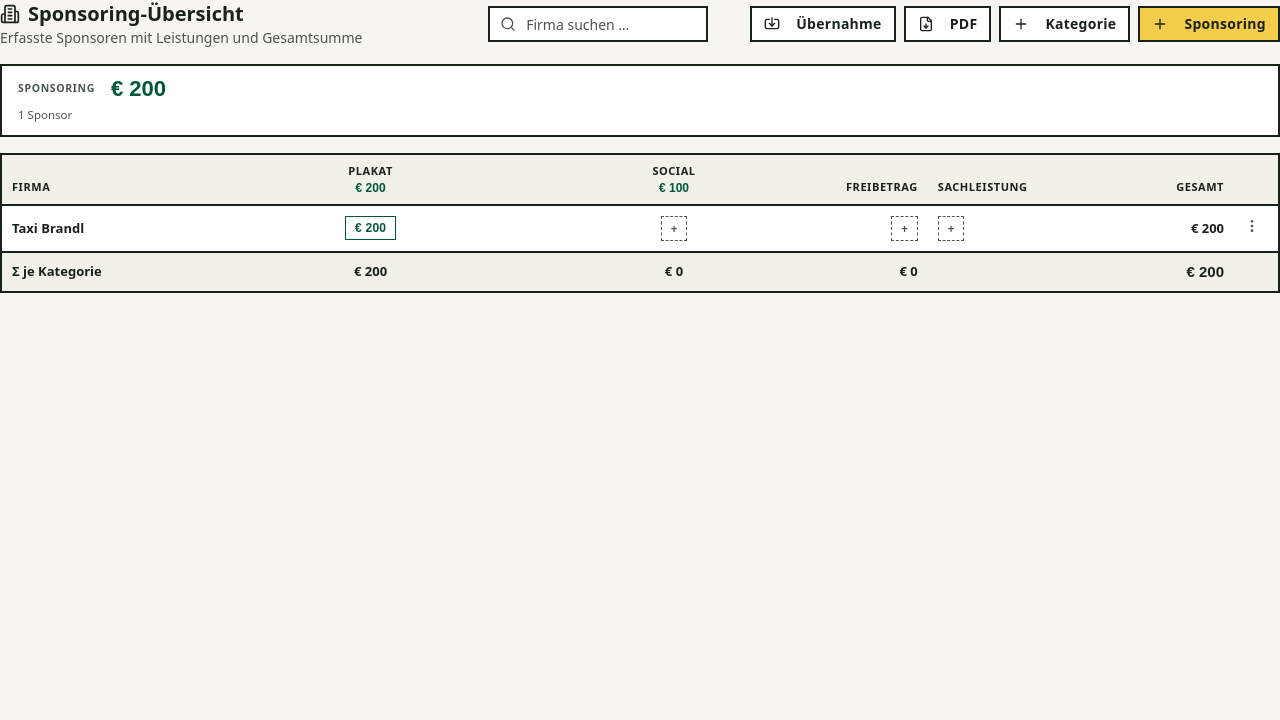
Test: SponsoringsSection — die Preisliste wird am Spaltenkopf verwaltet › löscht nach der bezifferten Rückfrage; Spalte und Summen ziehen nach
Click the button "Plakat € 200" at [371, 180], box [229,155,512,204]
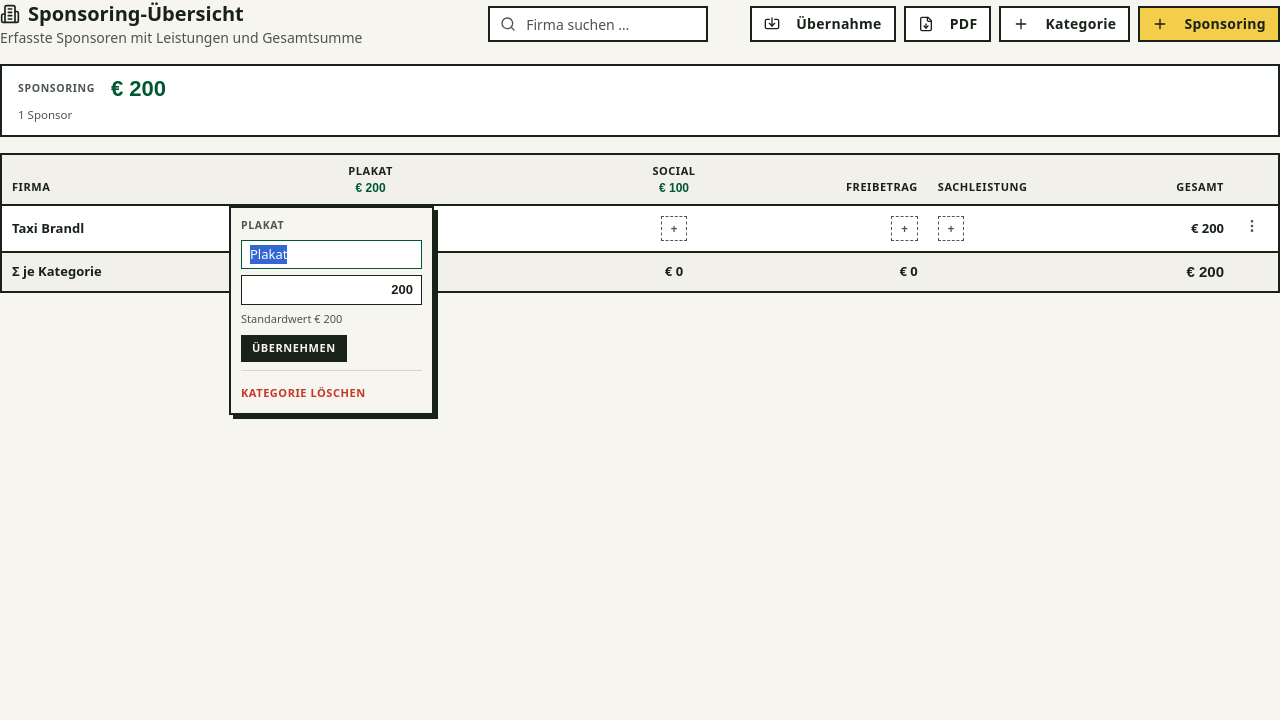
Click the button "Kategorie löschen" at [303, 393], box [241,385,366,401]
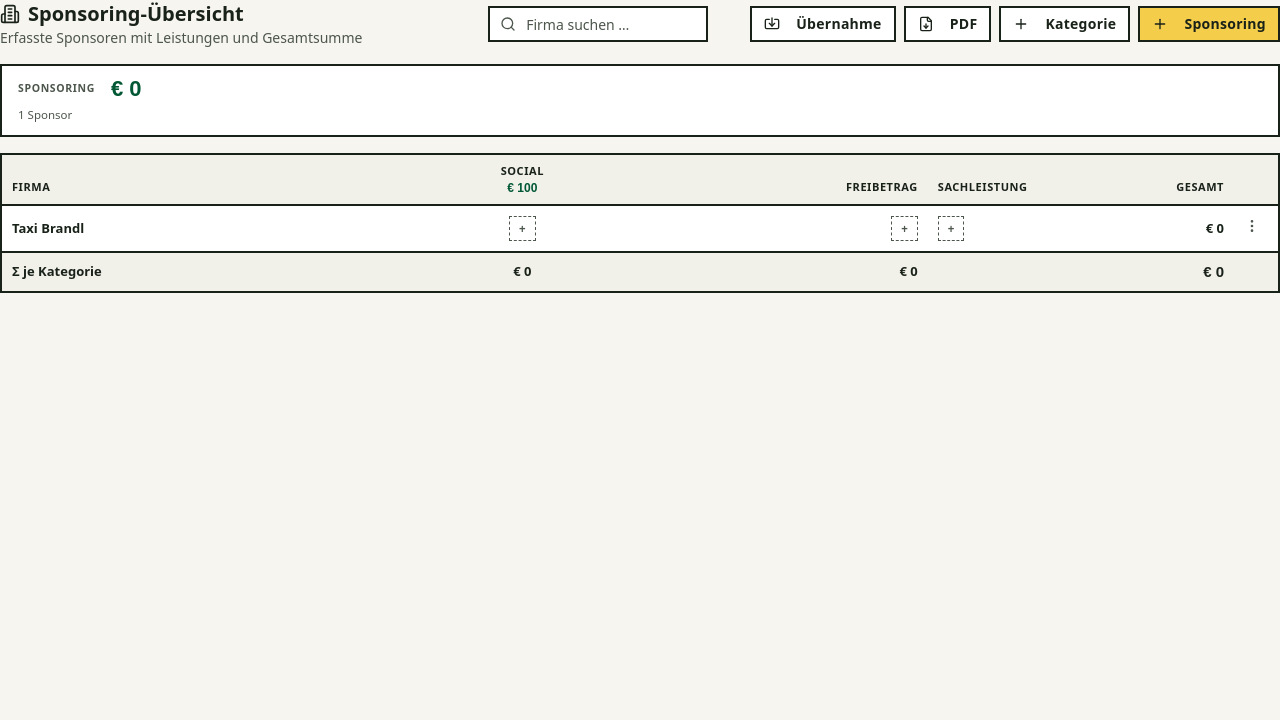
Now the button "Plakat € 200" no longer shows "Plakat"
Now the element showing "Sponsoring € 0 1 Sponsor" is shown, box [0,64,1279,137]
